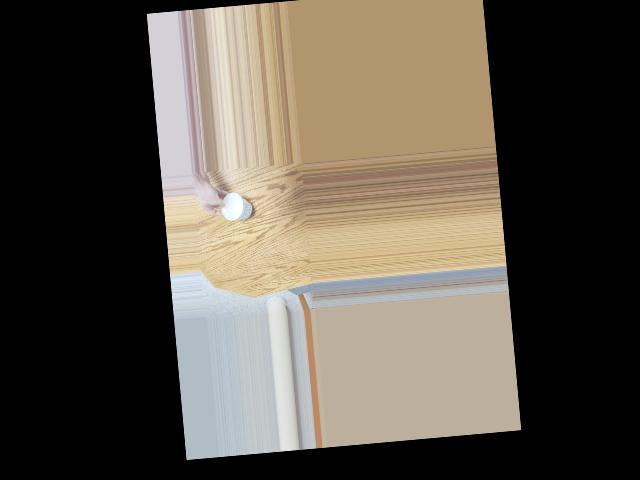cotage: (218, 193, 251, 220)
